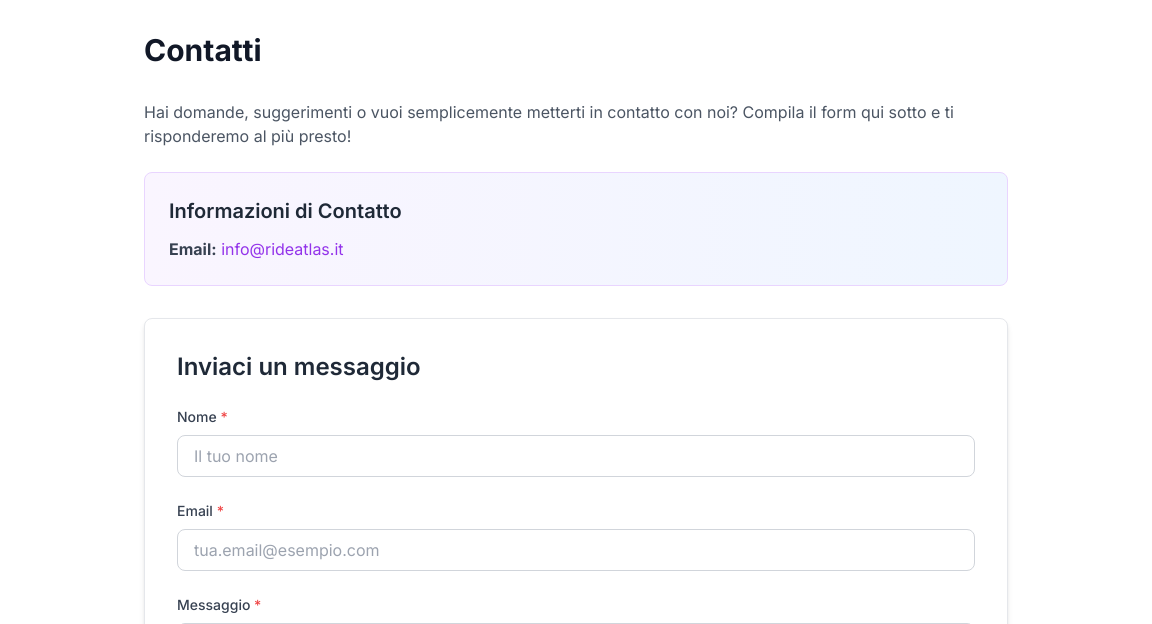
it: ContattiPage › shows simulated message in development mode
The image size is (1152, 624).
Step 1. Type "Mario Rossi" into the field labelled "Nome *" → (576, 456), box [177,435,975,477]
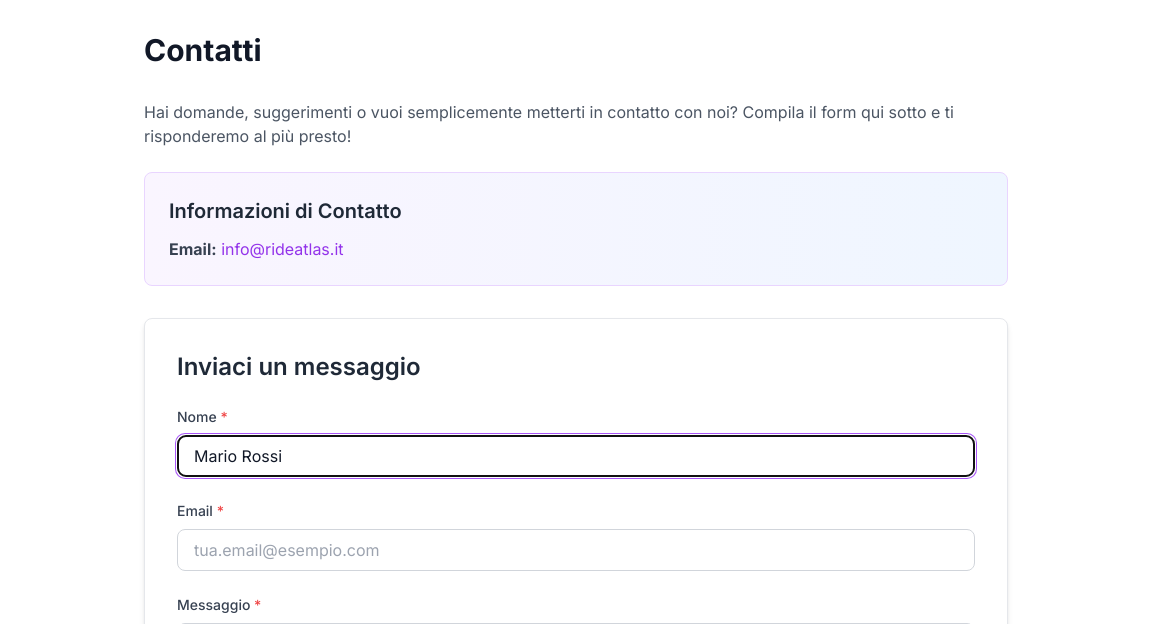
Step 2. Type "mario@example.com" into the field labelled "Email *" → (576, 550), box [177,529,975,571]
(page scrolled)
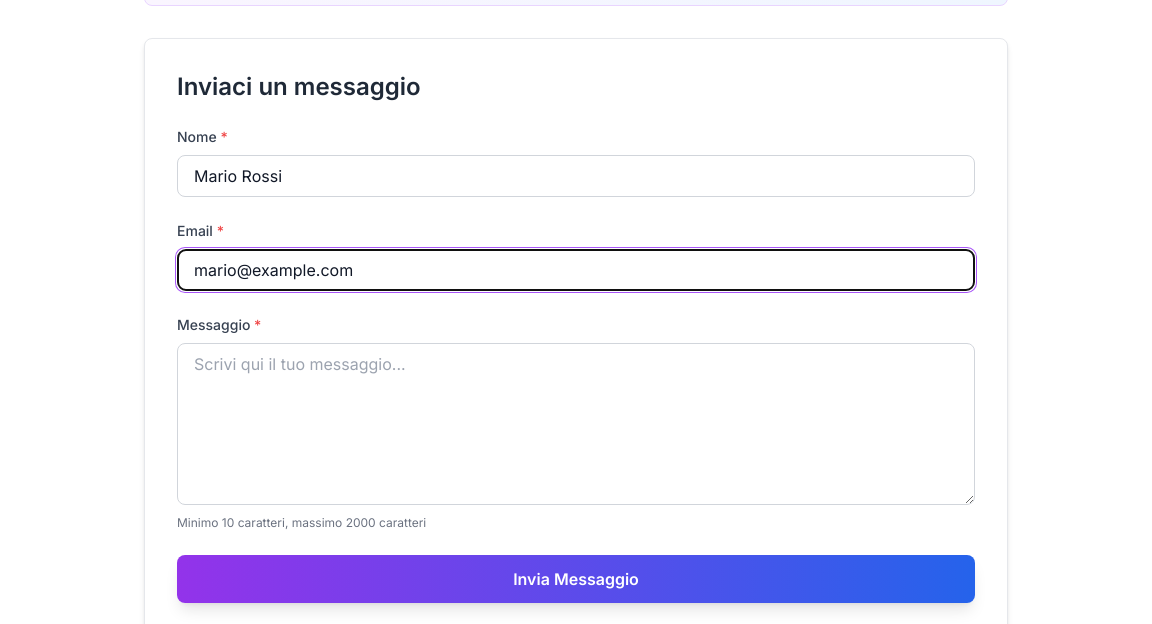
Step 3. Type "Messaggio di test in modalità sviluppo." into the text box labelled "Messaggio *" → (576, 424), box [177,343,975,505]
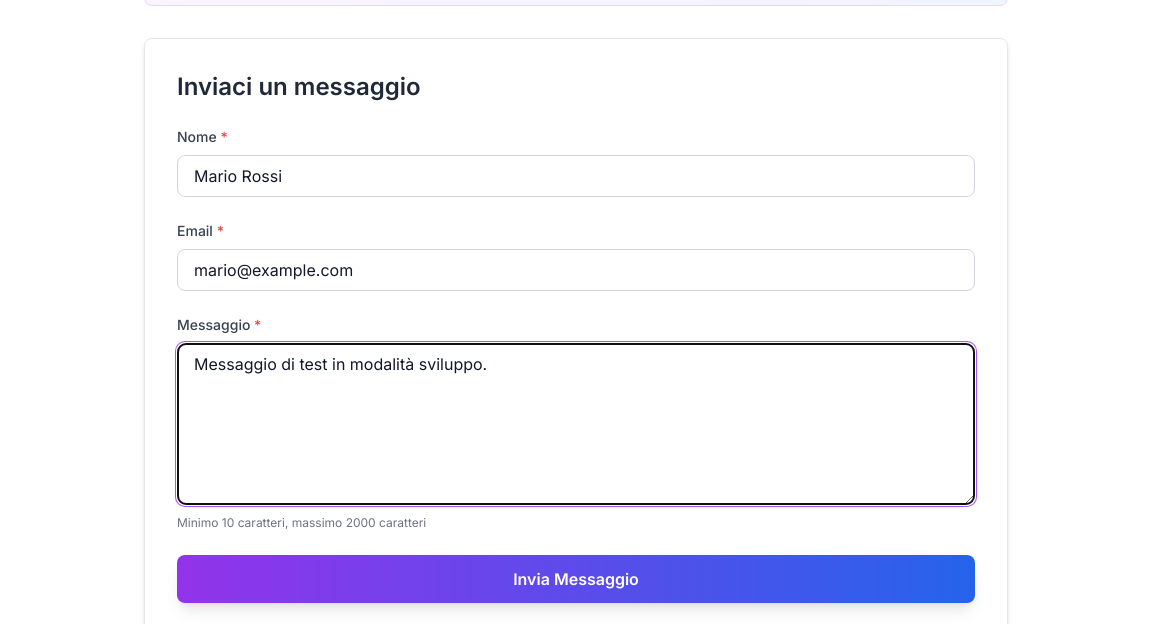
Step 4. Click the button "Invia Messaggio" → (576, 579), box [177,555,975,603]
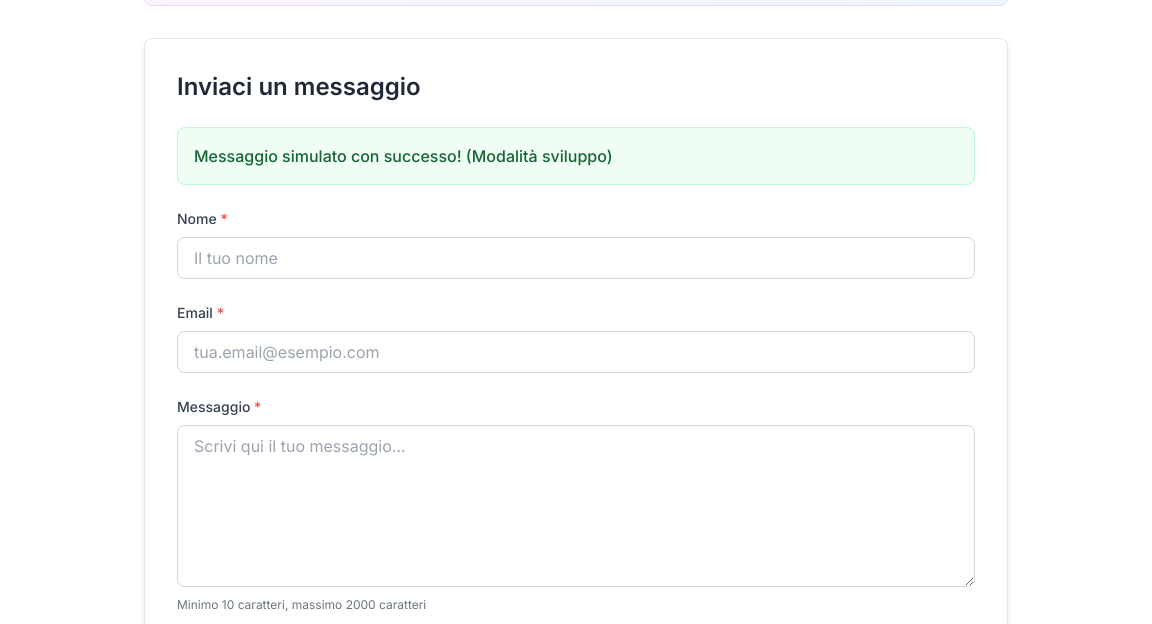
Expected: the text "Messaggio simulato con successo! (Modalità sviluppo)" is shown, [194,146,613,166]
